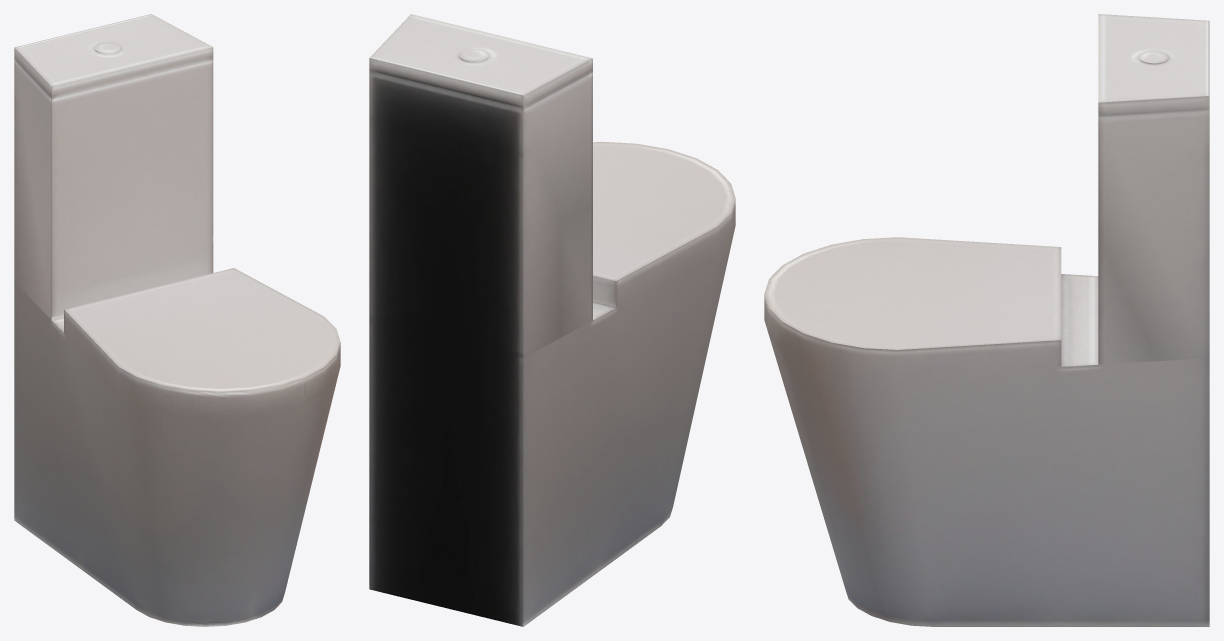
3 renders of one model, left to right at view 1: azimuth 30°, elevation 25°; view 2: azimuth 150°, elevation 25°; view 3: azimuth 270°, elevation 25°, orthographic. The views are drawn at different scales.
Visible parts, largest first — view 1: wc2; view 2: wc2; view 3: wc2.
Boxes of the visible parts, x1,y1,x2,y2 form: wc2: (14,14,340,626); wc2: (369,14,735,626); wc2: (764,14,1209,626).
Size of what is drawn, in the model's own units: 0.3685 by 0.8107 by 0.6142.
Materials: 1 (1 with a texture image).
